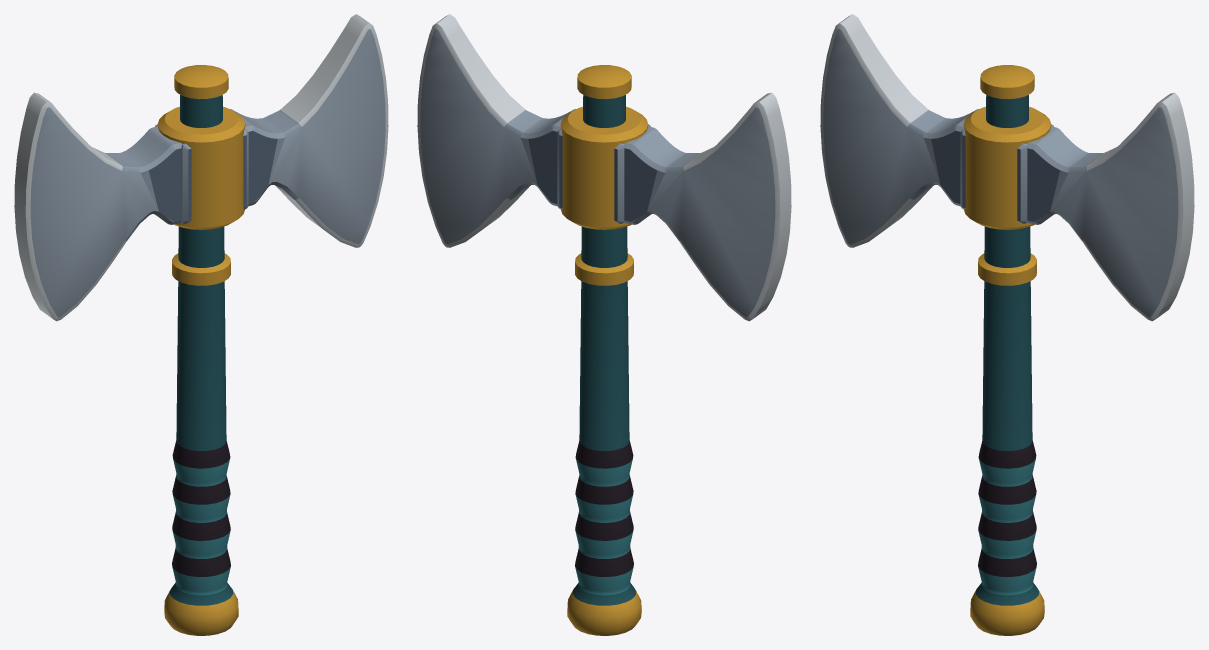
Rendered from Axe_07.glb.
The picture shows the model from 3 angles, left to right: view 1: azimuth 30°, elevation 25°; view 2: azimuth 150°, elevation 25°; view 3: azimuth 330°, elevation 25°; orthographic projection.
Parts seen in each view (by area): view 1: Axe_07; view 2: Axe_07; view 3: Axe_07.
Boxes of the visible parts, bbox=[...] form: Axe_07: bbox=[14, 14, 388, 635]; Axe_07: bbox=[417, 14, 791, 635]; Axe_07: bbox=[820, 14, 1194, 635].
Size of the model in its own units: 3.03 by 4.5 by 0.632.
